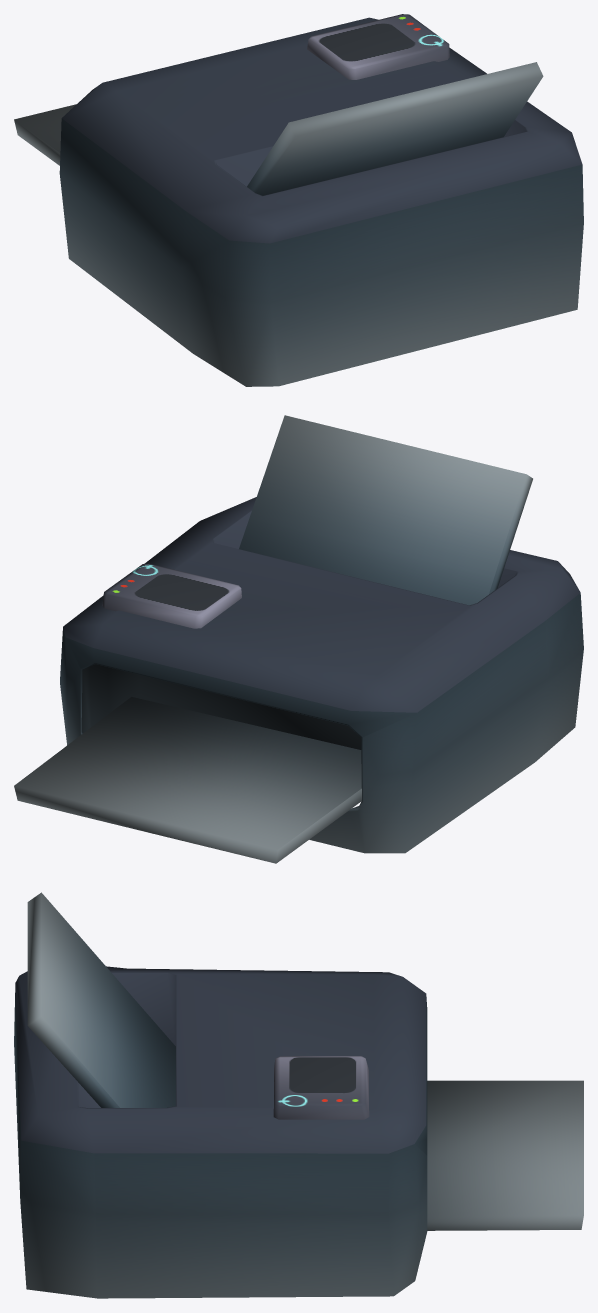
The model's file is mesh_printer_LOD2.fbx.
The picture shows the model from 3 angles, top to bottom: view 1: azimuth 30°, elevation 25°; view 2: azimuth 150°, elevation 25°; view 3: azimuth 270°, elevation 25°; orthographic projection. The views are drawn at different scales.
Visible parts, largest first — view 1: printer_LOD2; view 2: printer_LOD2; view 3: printer_LOD2.
Part boxes in pixels (x1=…): printer_LOD2: x1=14, y1=14, x2=583, y2=386; printer_LOD2: x1=14, y1=415, x2=583, y2=863; printer_LOD2: x1=14, y1=892, x2=583, y2=1298.
Bounding box in the file's own units: 78.04 × 49.57 × 99.88.
